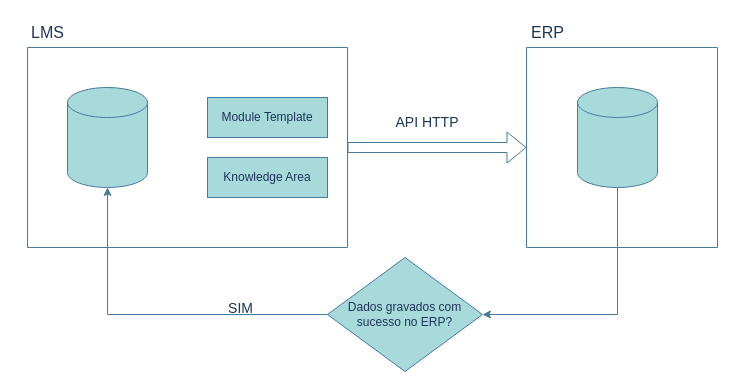
Some shapes in this 745 by 389 pixel diagram are drawn without their labels. The shapes that lost their labels are listed below. From the top down, each one's centre as x and y in pixels, then its label:
At (107,137): "Banco de Dados LMS".
At (617,137): "Banco de Dados ERP".
